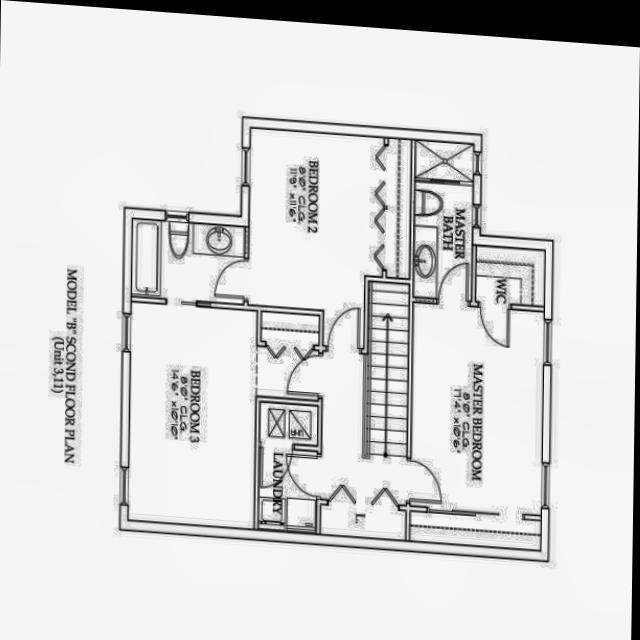room: (127, 219, 257, 529), (247, 128, 410, 349), (409, 303, 543, 550), (315, 352, 412, 540), (413, 141, 472, 301), (369, 282, 408, 456), (255, 312, 318, 400), (258, 448, 316, 533), (472, 246, 547, 306), (256, 403, 319, 450)
